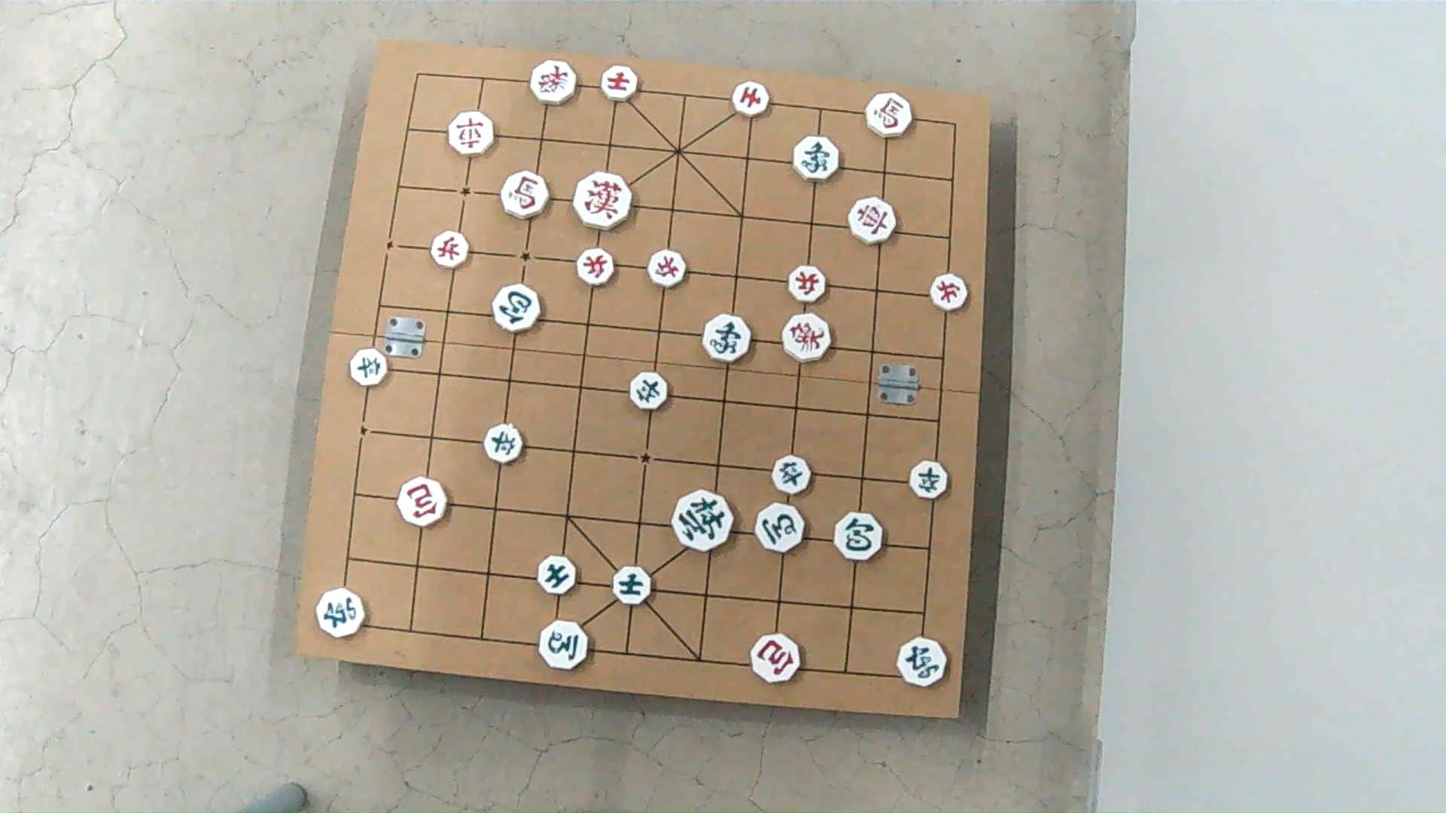cha_green: (897, 638, 946, 687), (316, 590, 364, 639)
cha_red: (849, 199, 896, 245), (450, 111, 496, 154)
jol_green: (485, 425, 524, 463), (773, 455, 811, 494), (910, 461, 948, 499), (632, 371, 670, 408), (352, 349, 390, 386)
jol_red: (788, 266, 826, 304), (648, 251, 685, 289), (575, 249, 613, 286), (932, 275, 969, 312), (432, 232, 469, 269)
ma_green: (756, 504, 805, 553), (539, 621, 587, 670)
ma_red: (499, 172, 548, 219), (865, 92, 911, 136)
po_green: (834, 513, 881, 561), (494, 285, 540, 332)
po_red: (753, 635, 802, 684), (397, 477, 446, 525)
sa_green: (615, 564, 654, 602), (538, 557, 576, 595)
sa_red: (602, 66, 639, 102), (731, 82, 767, 117)
sang_green: (703, 315, 751, 364), (792, 138, 839, 182)
sang_red: (784, 315, 831, 363), (532, 60, 578, 105)
wang_green: (675, 489, 734, 550)
wang_red: (576, 172, 633, 230)
